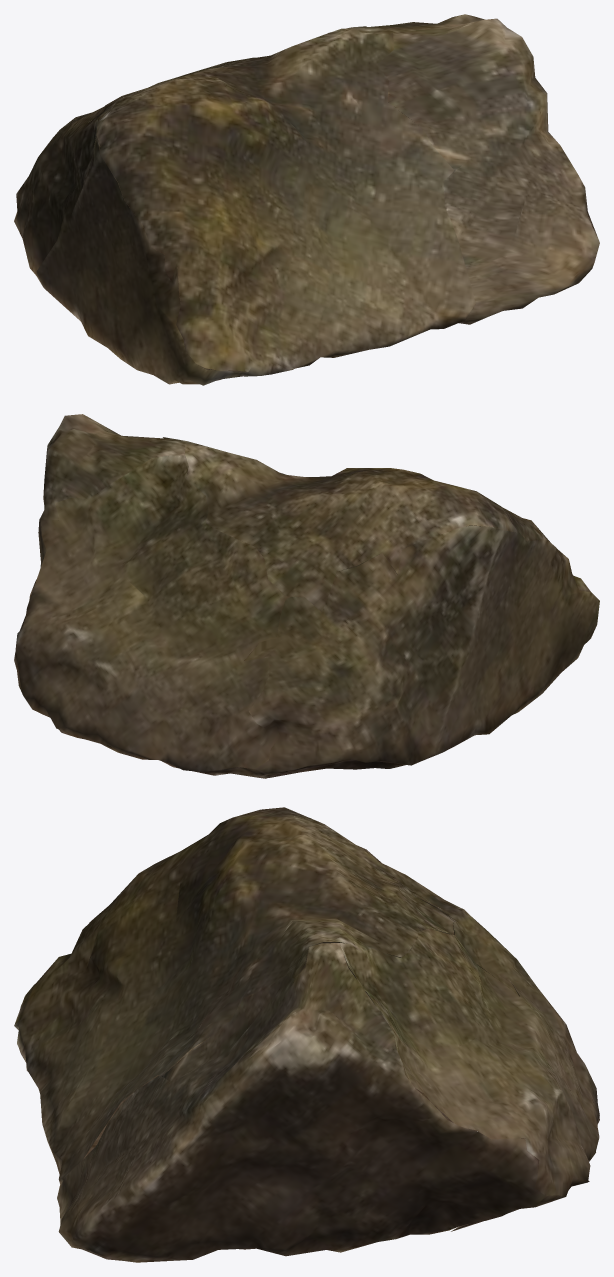
File: rock_moss_set_01_2.glb
The picture shows the model from 3 angles, top to bottom: view 1: azimuth 30°, elevation 25°; view 2: azimuth 150°, elevation 25°; view 3: azimuth 270°, elevation 25°; orthographic projection. The views are drawn at different scales.
Parts seen in each view (by area): view 1: rock_moss_set_01_rock03; view 2: rock_moss_set_01_rock03; view 3: rock_moss_set_01_rock03.
Part boxes in pixels (left/top/right/bottom): rock_moss_set_01_rock03: left=14, top=14, right=599, bottom=385; rock_moss_set_01_rock03: left=14, top=414, right=599, bottom=778; rock_moss_set_01_rock03: left=14, top=807, right=599, bottom=1262.
Bounding box in the file's own units: 2.11 × 1.1 × 2.08.
1 material, 1 textured.
